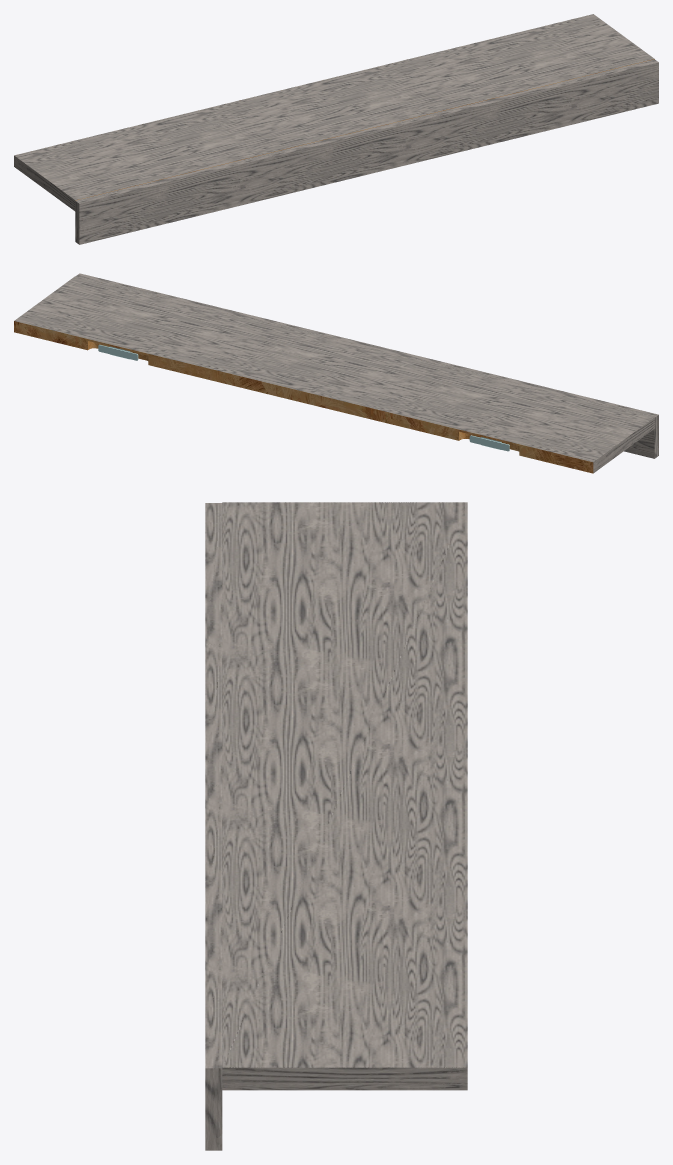
File: wall_shelf_simple_aleixoalonso.glb
3 renders of one model, top to bottom at view 1: azimuth 30°, elevation 25°; view 2: azimuth 150°, elevation 25°; view 3: azimuth 270°, elevation 25°, orthographic. The views are drawn at different scales.
Parts seen in each view (by area): view 1: Object_4, Object_5; view 2: Object_4, Object_5, Object_8; view 3: Object_4.
Boxes of the visible parts, left/top/right/bottom form: Object_4: left=14, top=14, right=658, bottom=244; Object_5: left=75, top=59, right=654, bottom=200; Object_4: left=14, top=273, right=658, bottom=473; Object_5: left=14, top=321, right=593, bottom=473; Object_8: left=98, top=344, right=509, bottom=451; Object_4: left=205, top=502, right=467, bottom=1150.
Size of the model in its own units: 1.2 by 0.0821 by 0.2354.
5 materials, 2 textured.
